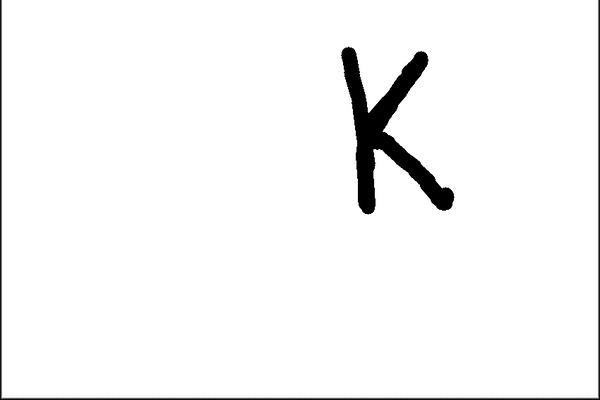K: (329, 35, 463, 223)
